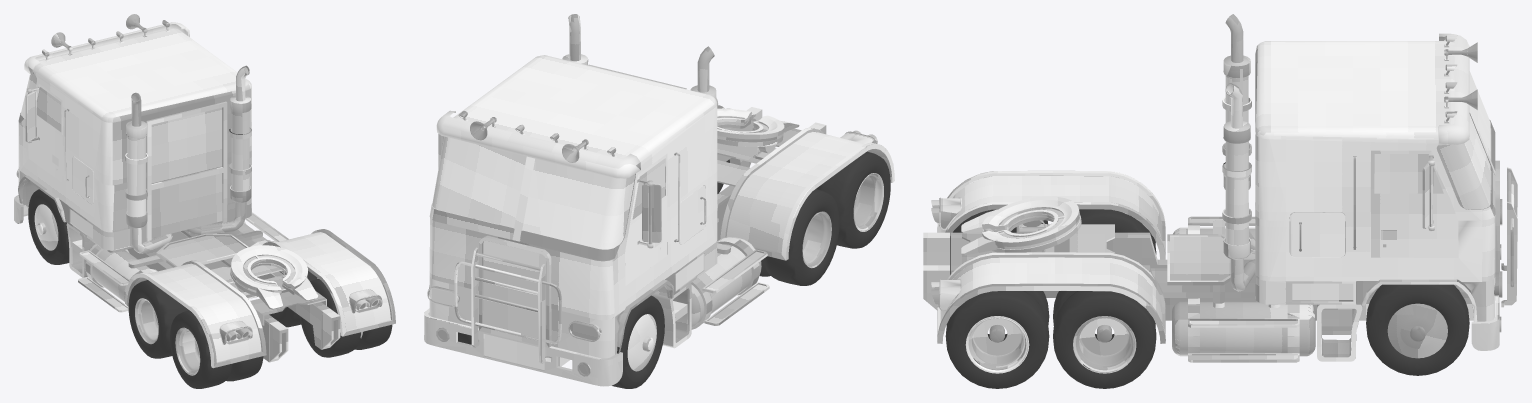
The model's file is SemiTrack.glb.
The picture shows the model from 3 angles, left to right: view 1: azimuth 30°, elevation 25°; view 2: azimuth 150°, elevation 25°; view 3: azimuth 270°, elevation 25°; orthographic projection. The views are drawn at different scales.
Parts seen in each view (by area): view 1: SemiTrack; view 2: SemiTrack; view 3: SemiTrack.
Boxes of the visible parts, bbox=[...] form: SemiTrack: bbox=[14, 14, 395, 388]; SemiTrack: bbox=[424, 14, 894, 388]; SemiTrack: bbox=[923, 14, 1517, 388].
Size of the model in its own units: 2.37 by 2.64 by 5.01.
1 material, 1 textured.
